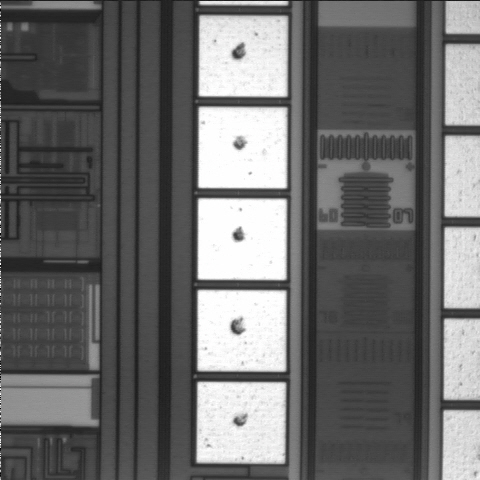pad: (198, 198, 287, 280), (197, 382, 286, 464), (198, 290, 286, 372), (199, 16, 288, 97), (198, 107, 287, 188)
